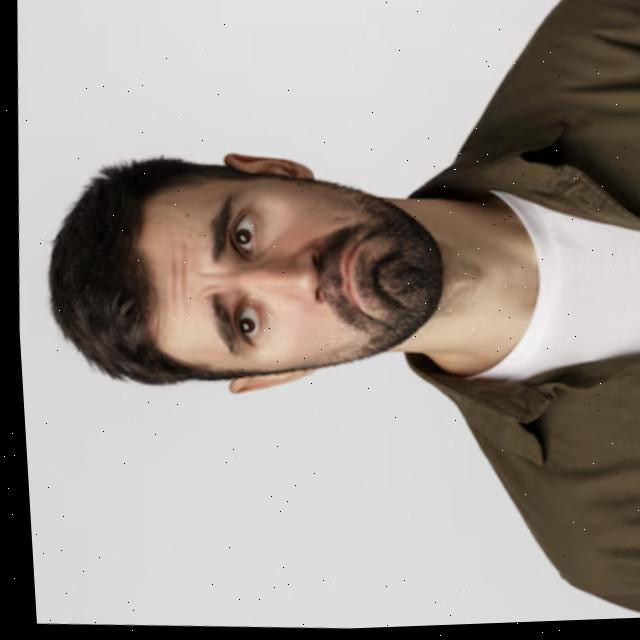sad: (121, 169, 442, 394)
